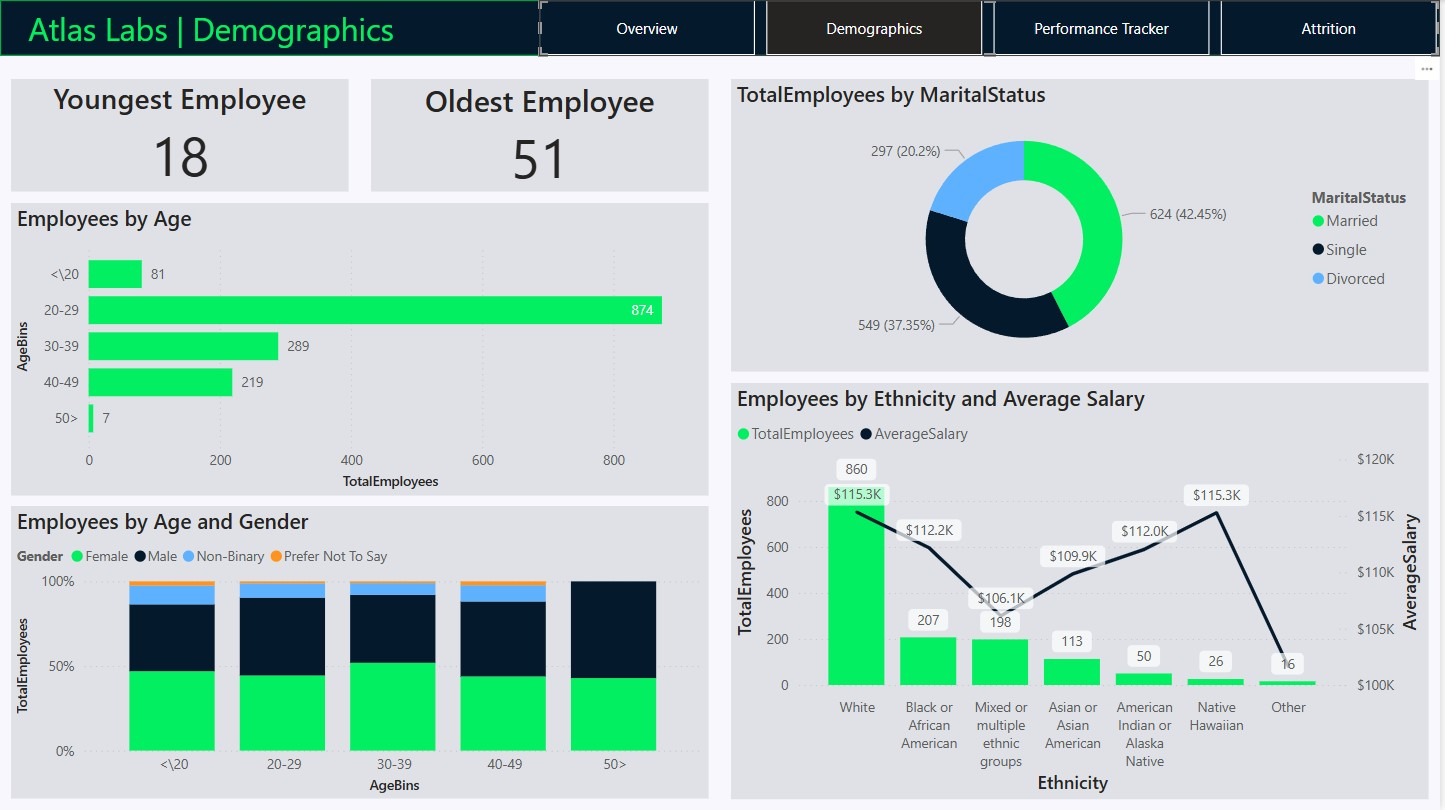

The dashboard page shown, as its layout file describes it:
{"tool":"powerbi","page":{"name":"Demographics","canvas":[1280,720],"ordinal":1},"visuals":[{"type":"card","title":"Oldest Employee","fields":{"Values":["Max(DimEmployee.Age)"]},"box":[330,70,300,100],"z":0},{"type":"card","title":"Youngest Employee","fields":{"Values":["Min(DimEmployee.Age)"]},"box":[10,70,300,100],"z":1000},{"type":"barChart","title":"Employees by Age","fields":{"Y":["_Measures.TotalEmployees"],"Category":["DimEmployee.AgeBins"]},"box":[9.8,180.4,620.4,259.6],"z":2000},{"type":"hundredPercentStackedColumnChart","title":"Employees by Age and Gender","fields":{"Category":["DimEmployee.AgeBins"],"Y":["_Measures.TotalEmployees"],"Series":["DimEmployee.Gender"]},"box":[9.8,449.8,620.4,260.4],"z":3000},{"type":"donutChart","fields":{"Category":["DimEmployee.MaritalStatus"],"Y":["_Measures.TotalEmployees"]},"box":[650,70,620,260],"z":4000},{"type":"lineStackedColumnComboChart","title":"Employees by Ethnicity and Average Salary ","fields":{"Category":["DimEmployee.Ethnicity"],"Y":["_Measures.TotalEmployees"],"Y2":["_Measures.AverageSalary"]},"box":[649.8,340.4,620.4,369.8],"z":5000},{"type":"shape","box":[0,0,1280,49.6],"z":6000},{"type":"pageNavigator","box":[479.5,0,800.5,49.6],"z":7000}]}

Visuals, with their boxes in screenshot pixels (x1, y1, x2, y2), scaled from the page's 1280x720 canvas onto the 1445x810 screenshot:
"Oldest Employee" card: [x1=373, y1=79, x2=711, y2=191]
"Youngest Employee" card: [x1=11, y1=79, x2=350, y2=191]
"Employees by Age" barChart: [x1=11, y1=203, x2=711, y2=495]
"Employees by Age and Gender" hundredPercentStackedColumnChart: [x1=11, y1=506, x2=711, y2=799]
donutChart - DimEmployee.MaritalStatus x _Measures.TotalEmployees: [x1=734, y1=79, x2=1434, y2=371]
"Employees by Ethnicity and Average Salary " lineStackedColumnComboChart: [x1=734, y1=383, x2=1434, y2=799]
shape: [x1=0, y1=0, x2=1444, y2=56]
pageNavigator: [x1=541, y1=0, x2=1444, y2=56]
